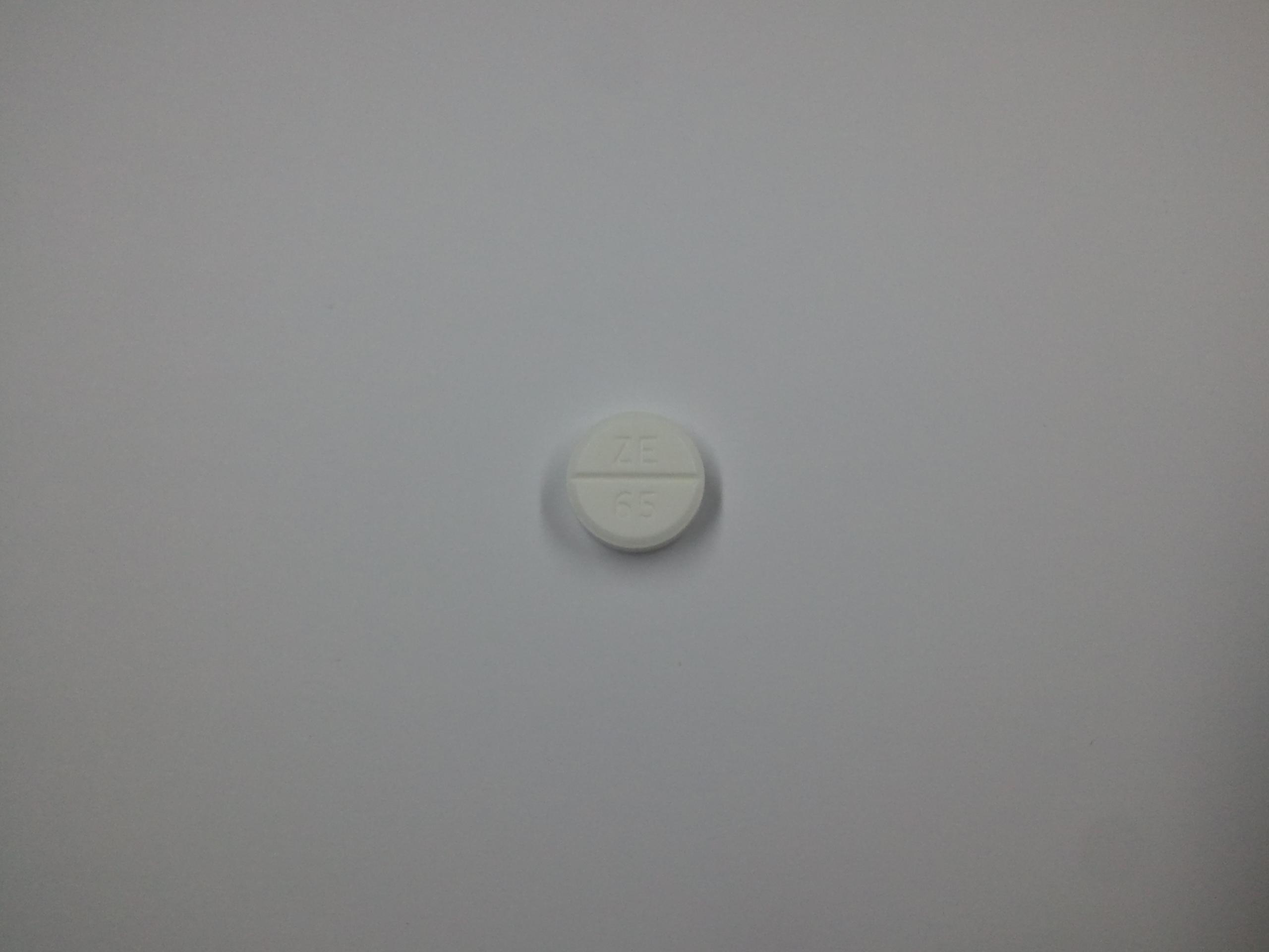Pill: (558, 407, 715, 560)
